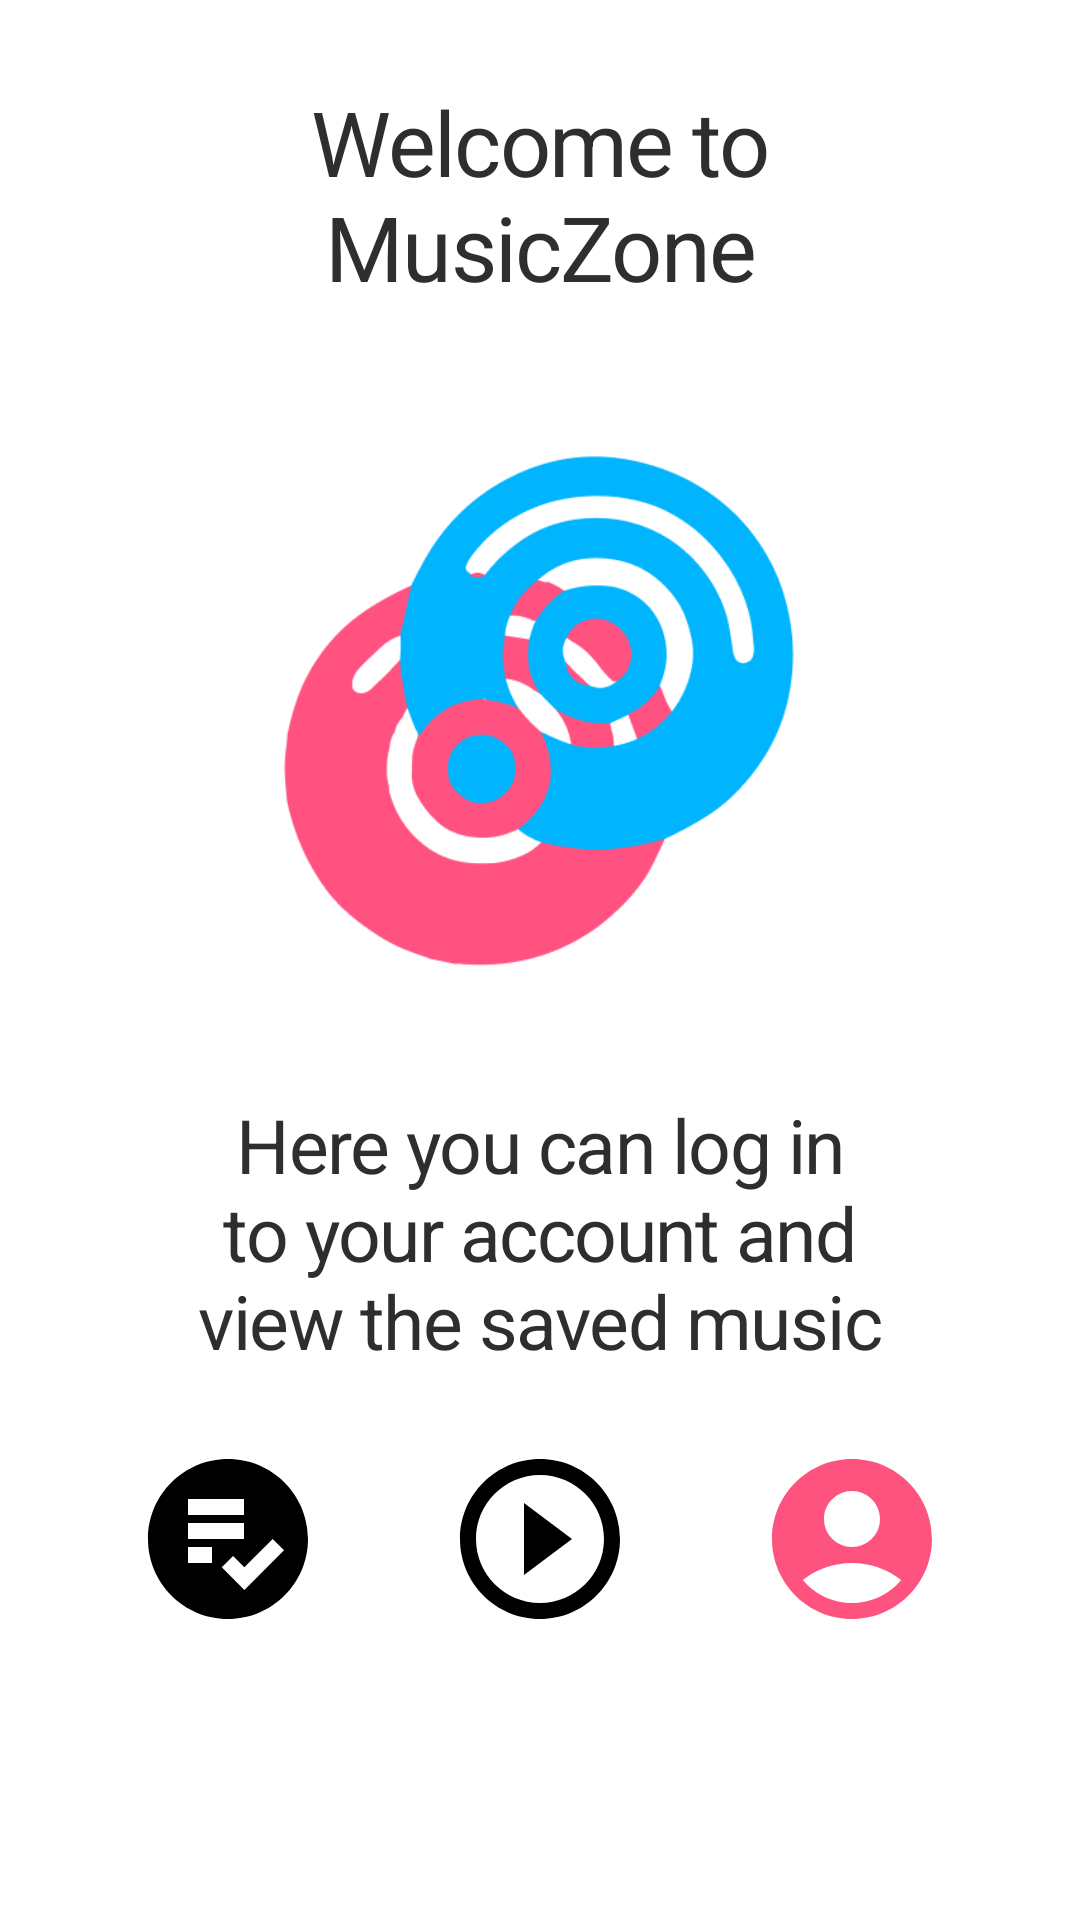

Locate icon controls on the screen. Image size 1080x1920, boxes as [x1, y1, x2, y2].
play circle: [459, 1459, 620, 1619]
